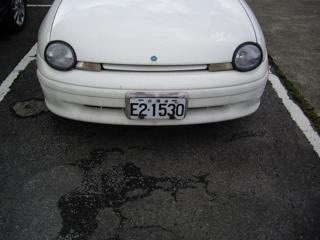plate: (127, 95, 187, 121)
